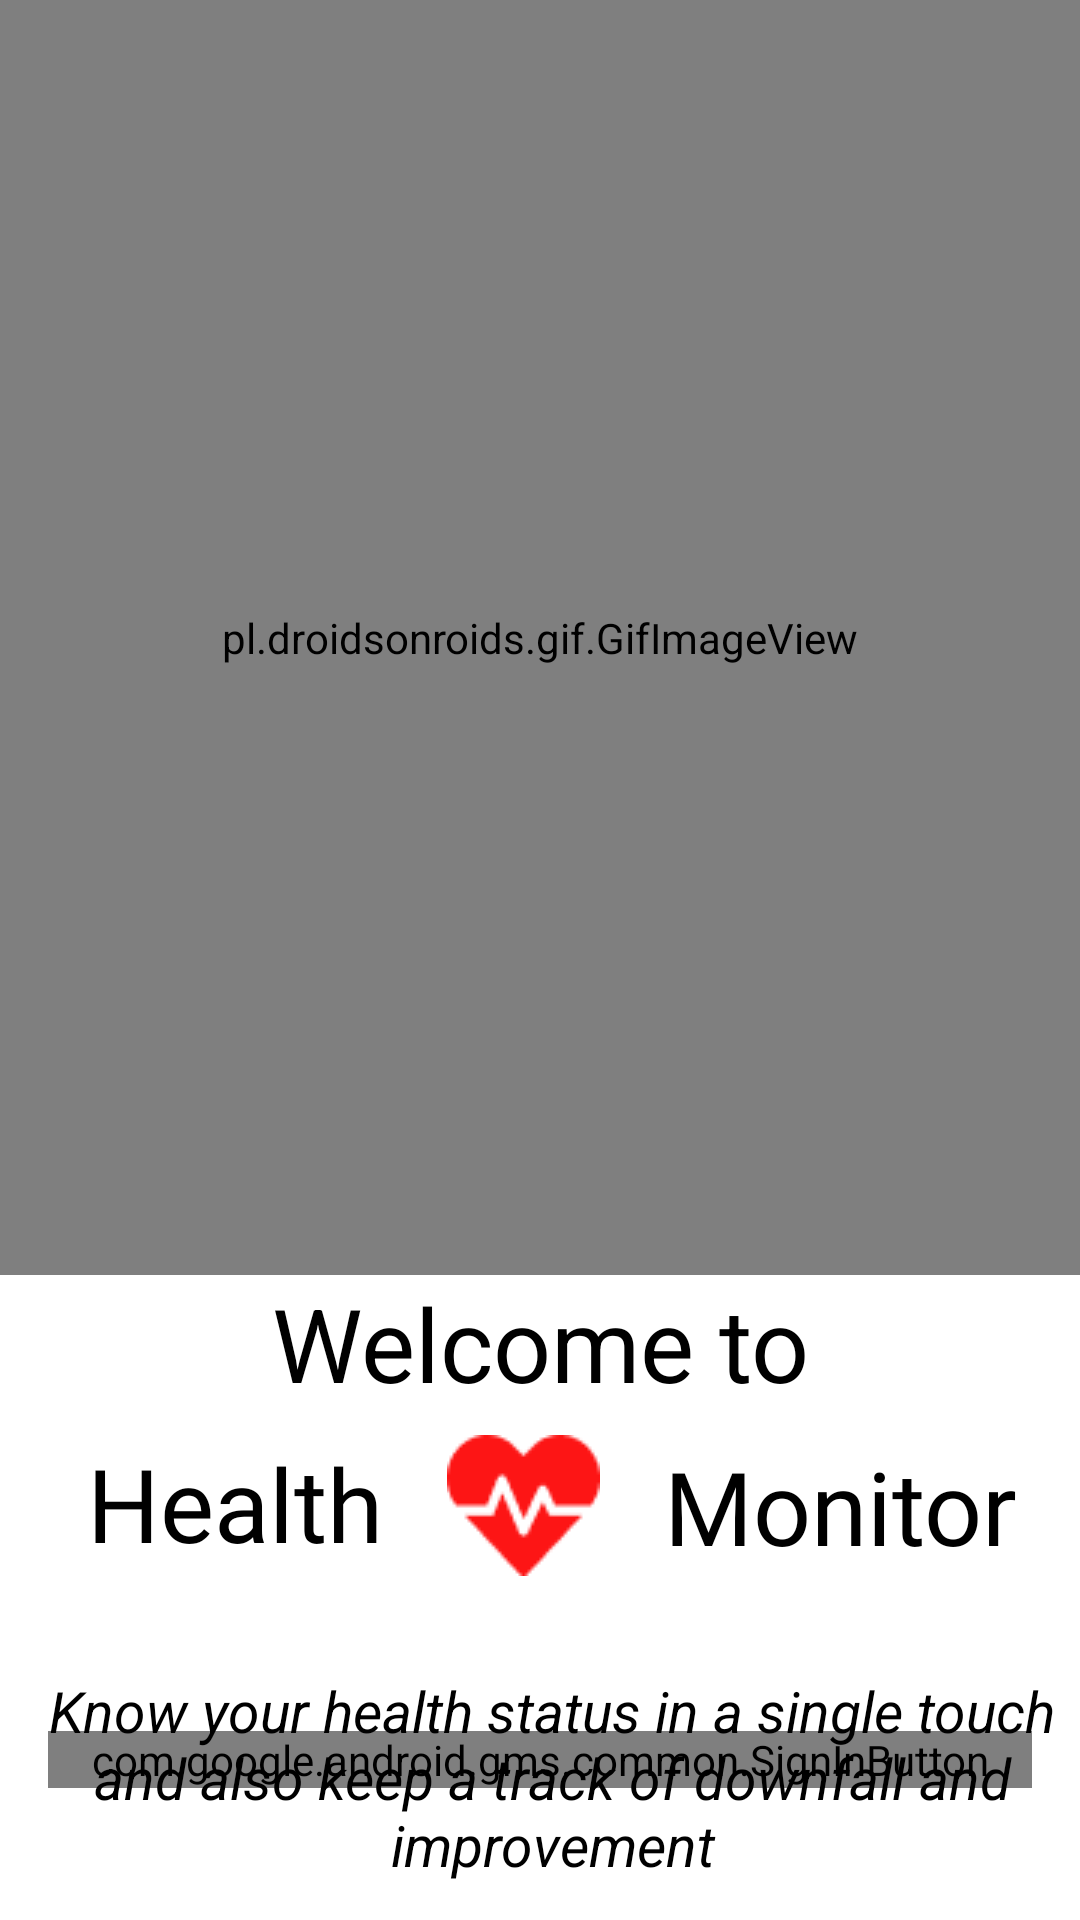

Icons on this 1080w x 1920h Android screen, each with the point to tap as (x,y):
heart: (523,1505)
